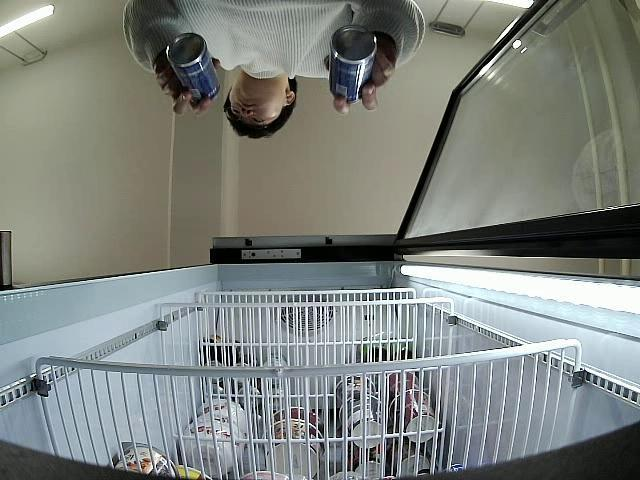16_hot6: (168, 33, 221, 106), (329, 27, 378, 104)
